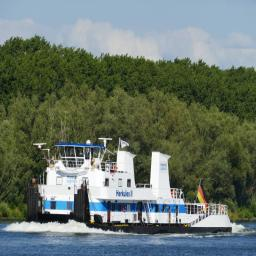tugboat: (24, 135, 235, 238)
